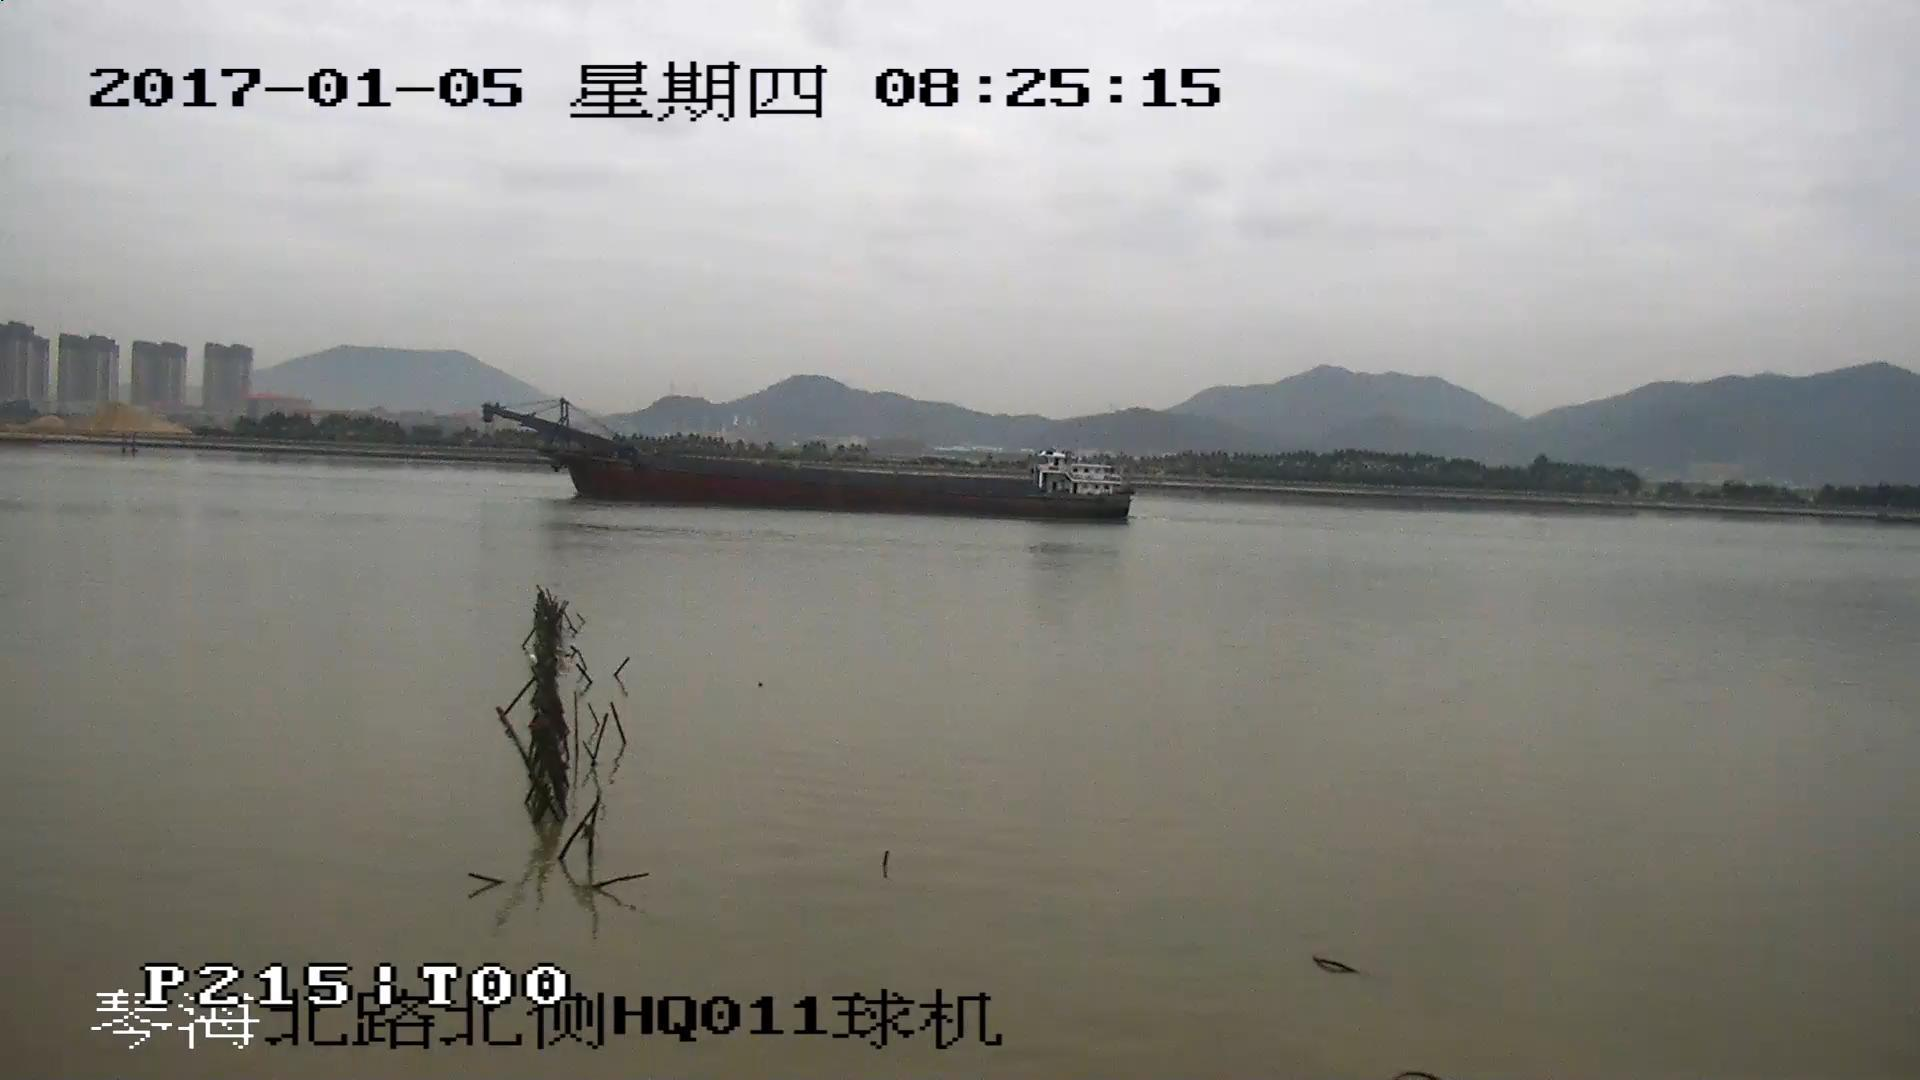Ship: (489, 404, 1131, 522)
